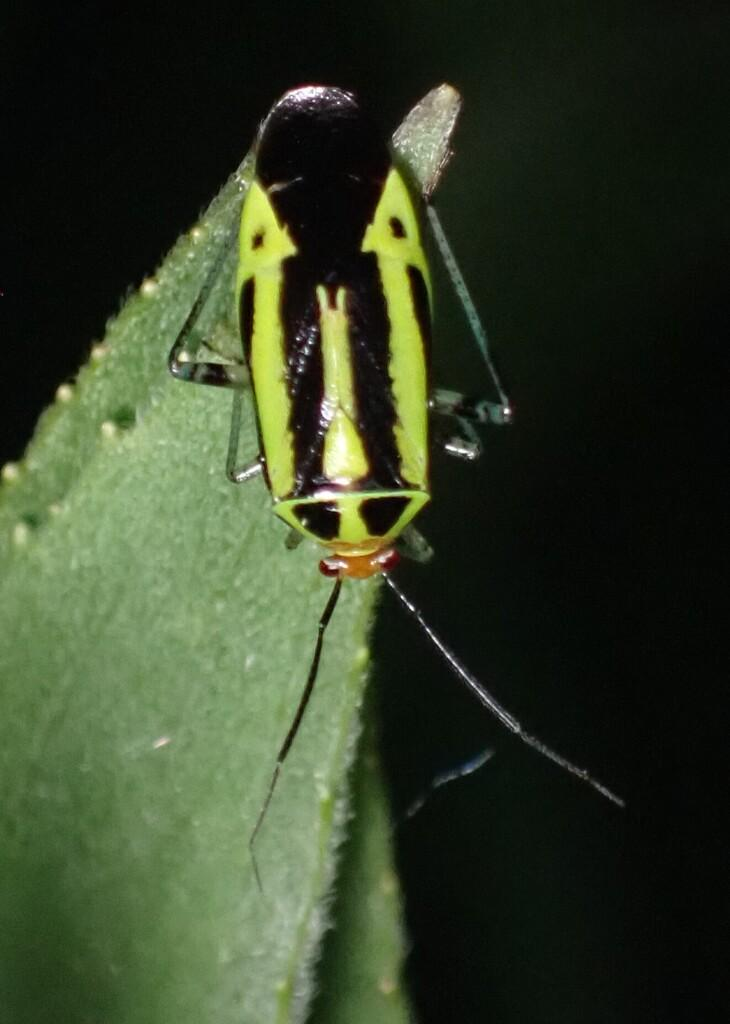plant_bugs: (134, 40, 660, 930)
